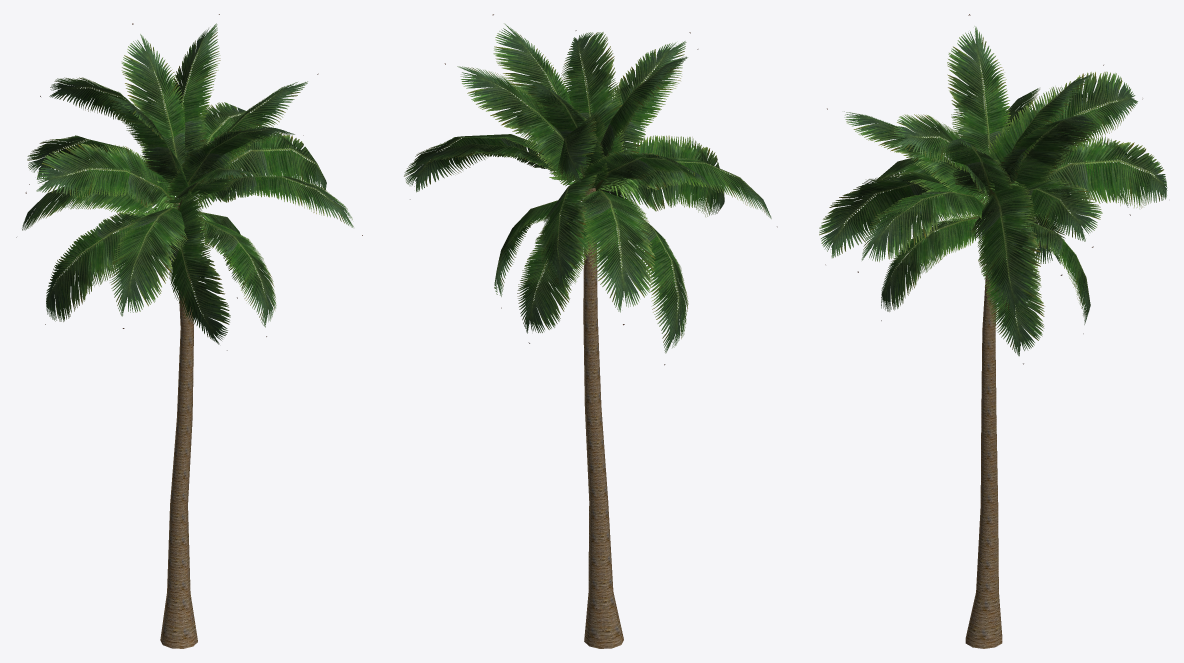
File: Palm-01.fbx
The picture shows the model from 3 angles, left to right: view 1: azimuth 30°, elevation 25°; view 2: azimuth 150°, elevation 25°; view 3: azimuth 270°, elevation 25°; orthographic projection. The views are drawn at different scales.
Parts seen in each view (by area): view 1: palm-01; view 2: palm-01; view 3: palm-01.
Boxes of the visible parts, <box> form: palm-01: <box>16,14,362,648</box>; palm-01: <box>404,14,777,648</box>; palm-01: <box>819,14,1167,648</box>.
Size of the model in its own units: 3.47 by 6.38 by 3.59.
